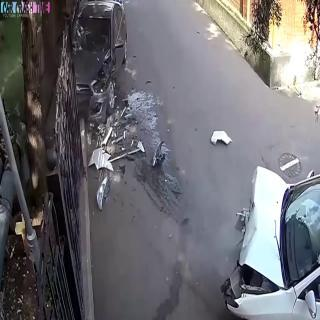Vehicle-Crash_Detected: (46, 26, 302, 320)
